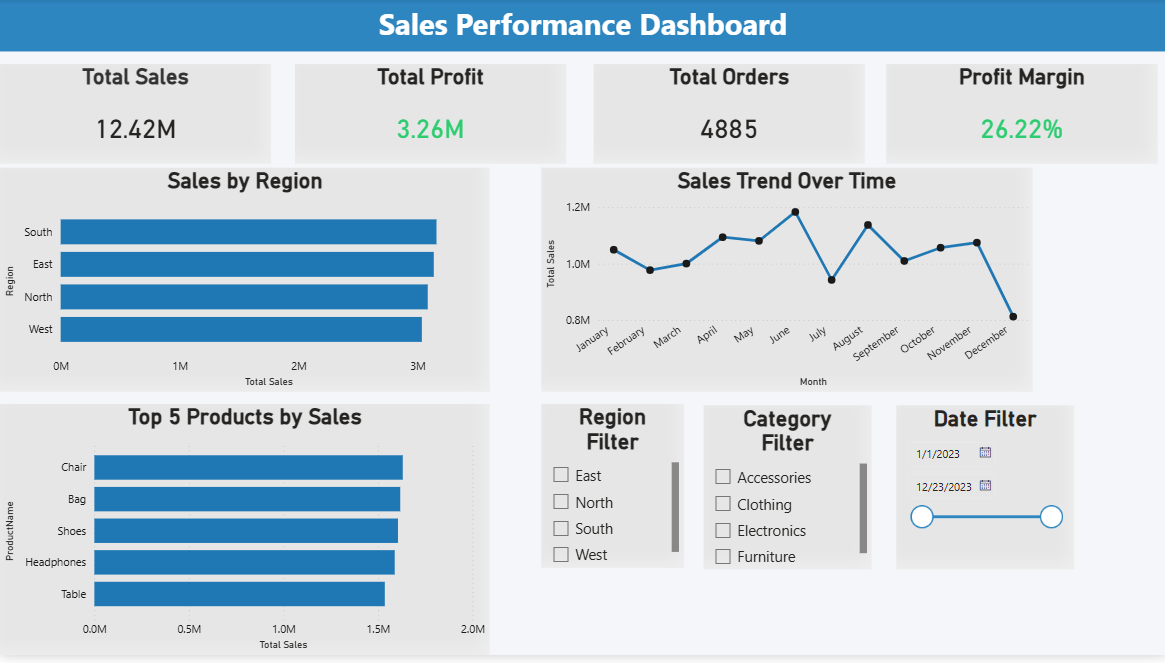

This screenshot's page, from the dashboard's own definition file:
{"tool":"powerbi","page":{"name":"Page 1","canvas":[1280,720],"ordinal":0},"visuals":[{"type":"card","title":"Total Sales","fields":{"Values":["Sales_Dashboard_Dataset.Total Sales"]},"box":[0,71.4,297.8,109.8],"z":0},{"type":"card","title":"Total Profit","fields":{"Values":["Sales_Dashboard_Dataset.Total Profit"]},"box":[323.8,71.4,297.8,109.8],"z":1000},{"type":"card","title":"Total Orders","fields":{"Values":["Sales_Dashboard_Dataset.Total Orders"]},"box":[651.8,71.4,297.8,109.8],"z":2000},{"type":"card","title":"Profit Margin","fields":{"Values":["Sales_Dashboard_Dataset.Profit Margin"]},"box":[972.9,71.4,297.8,109.8],"z":3000},{"type":"lineChart","title":"Sales Trend Over Time","fields":{"Category":["Sales_Dashboard_Dataset.OrderDate.Variation.Date Hierarchy.Month"],"Y":["Sales_Dashboard_Dataset.Total Sales"]},"box":[594.2,185.2,539.3,245.6],"z":4000},{"type":"clusteredBarChart","title":"Sales by Region","fields":{"Category":["Sales_Dashboard_Dataset.Region"],"Y":["Sales_Dashboard_Dataset.Total Sales"]},"box":[0,185.2,537.9,245.6],"z":5000},{"type":"clusteredBarChart","title":"Top 5 Products by Sales","fields":{"Category":["Sales_Dashboard_Dataset.ProductName"],"Y":["Sales_Dashboard_Dataset.Total Sales"]},"box":[0,444.6,537.9,275.8],"z":6000},{"type":"slicer","title":"Region Filter","fields":{"Values":["Sales_Dashboard_Dataset.Region"]},"box":[594.2,444.6,156.4,179.8],"z":7000},{"type":"slicer","title":"Category Filter","fields":{"Values":["Sales_Dashboard_Dataset.ProductCategory"]},"box":[772.6,446,183.9,179.8],"z":8000},{"type":"slicer","title":"Date Filter","fields":{"Values":["Sales_Dashboard_Dataset.OrderDate"]},"box":[983.9,446,194.9,179.8],"z":9000},{"type":"textbox","box":[0,0,1280.3,57.6],"z":10000}]}

Visuals, with their boxes in screenshot pixels (x1, y1, x2, y2), scaled from the page's 1280x720 canvas onto the 1165x663 screenshot:
"Total Sales" card: box=[0, 66, 271, 167]
"Total Profit" card: box=[295, 66, 566, 167]
"Total Orders" card: box=[593, 66, 864, 167]
"Profit Margin" card: box=[885, 66, 1157, 167]
"Sales Trend Over Time" lineChart: box=[541, 171, 1032, 397]
"Sales by Region" clusteredBarChart: box=[0, 171, 490, 397]
"Top 5 Products by Sales" clusteredBarChart: box=[0, 409, 490, 662]
"Region Filter" slicer: box=[541, 409, 683, 575]
"Category Filter" slicer: box=[703, 411, 871, 576]
"Date Filter" slicer: box=[896, 411, 1073, 576]
textbox: box=[0, 0, 1164, 53]
